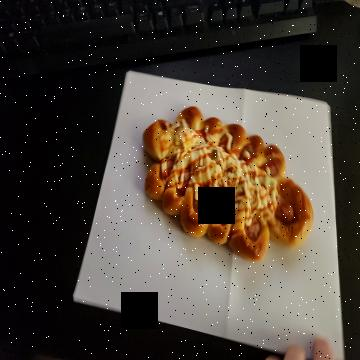pizza_bread: (141, 105, 315, 264)
